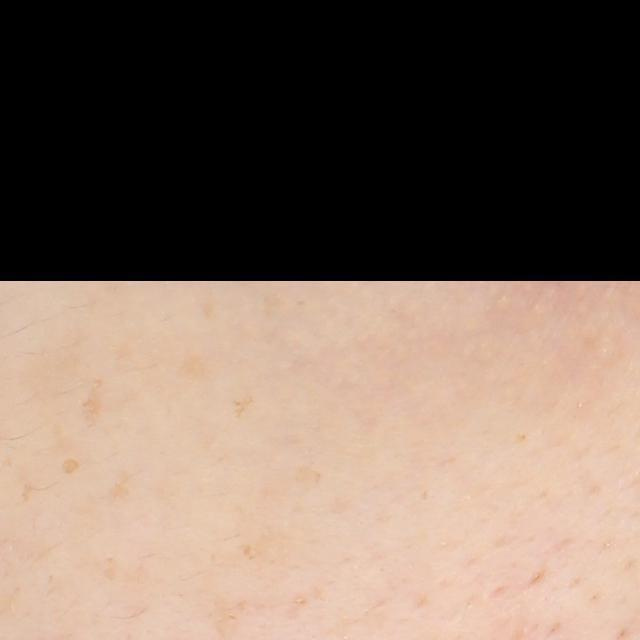melasma: (97, 466, 140, 504), (80, 376, 107, 431), (231, 393, 258, 422), (59, 456, 82, 479)
